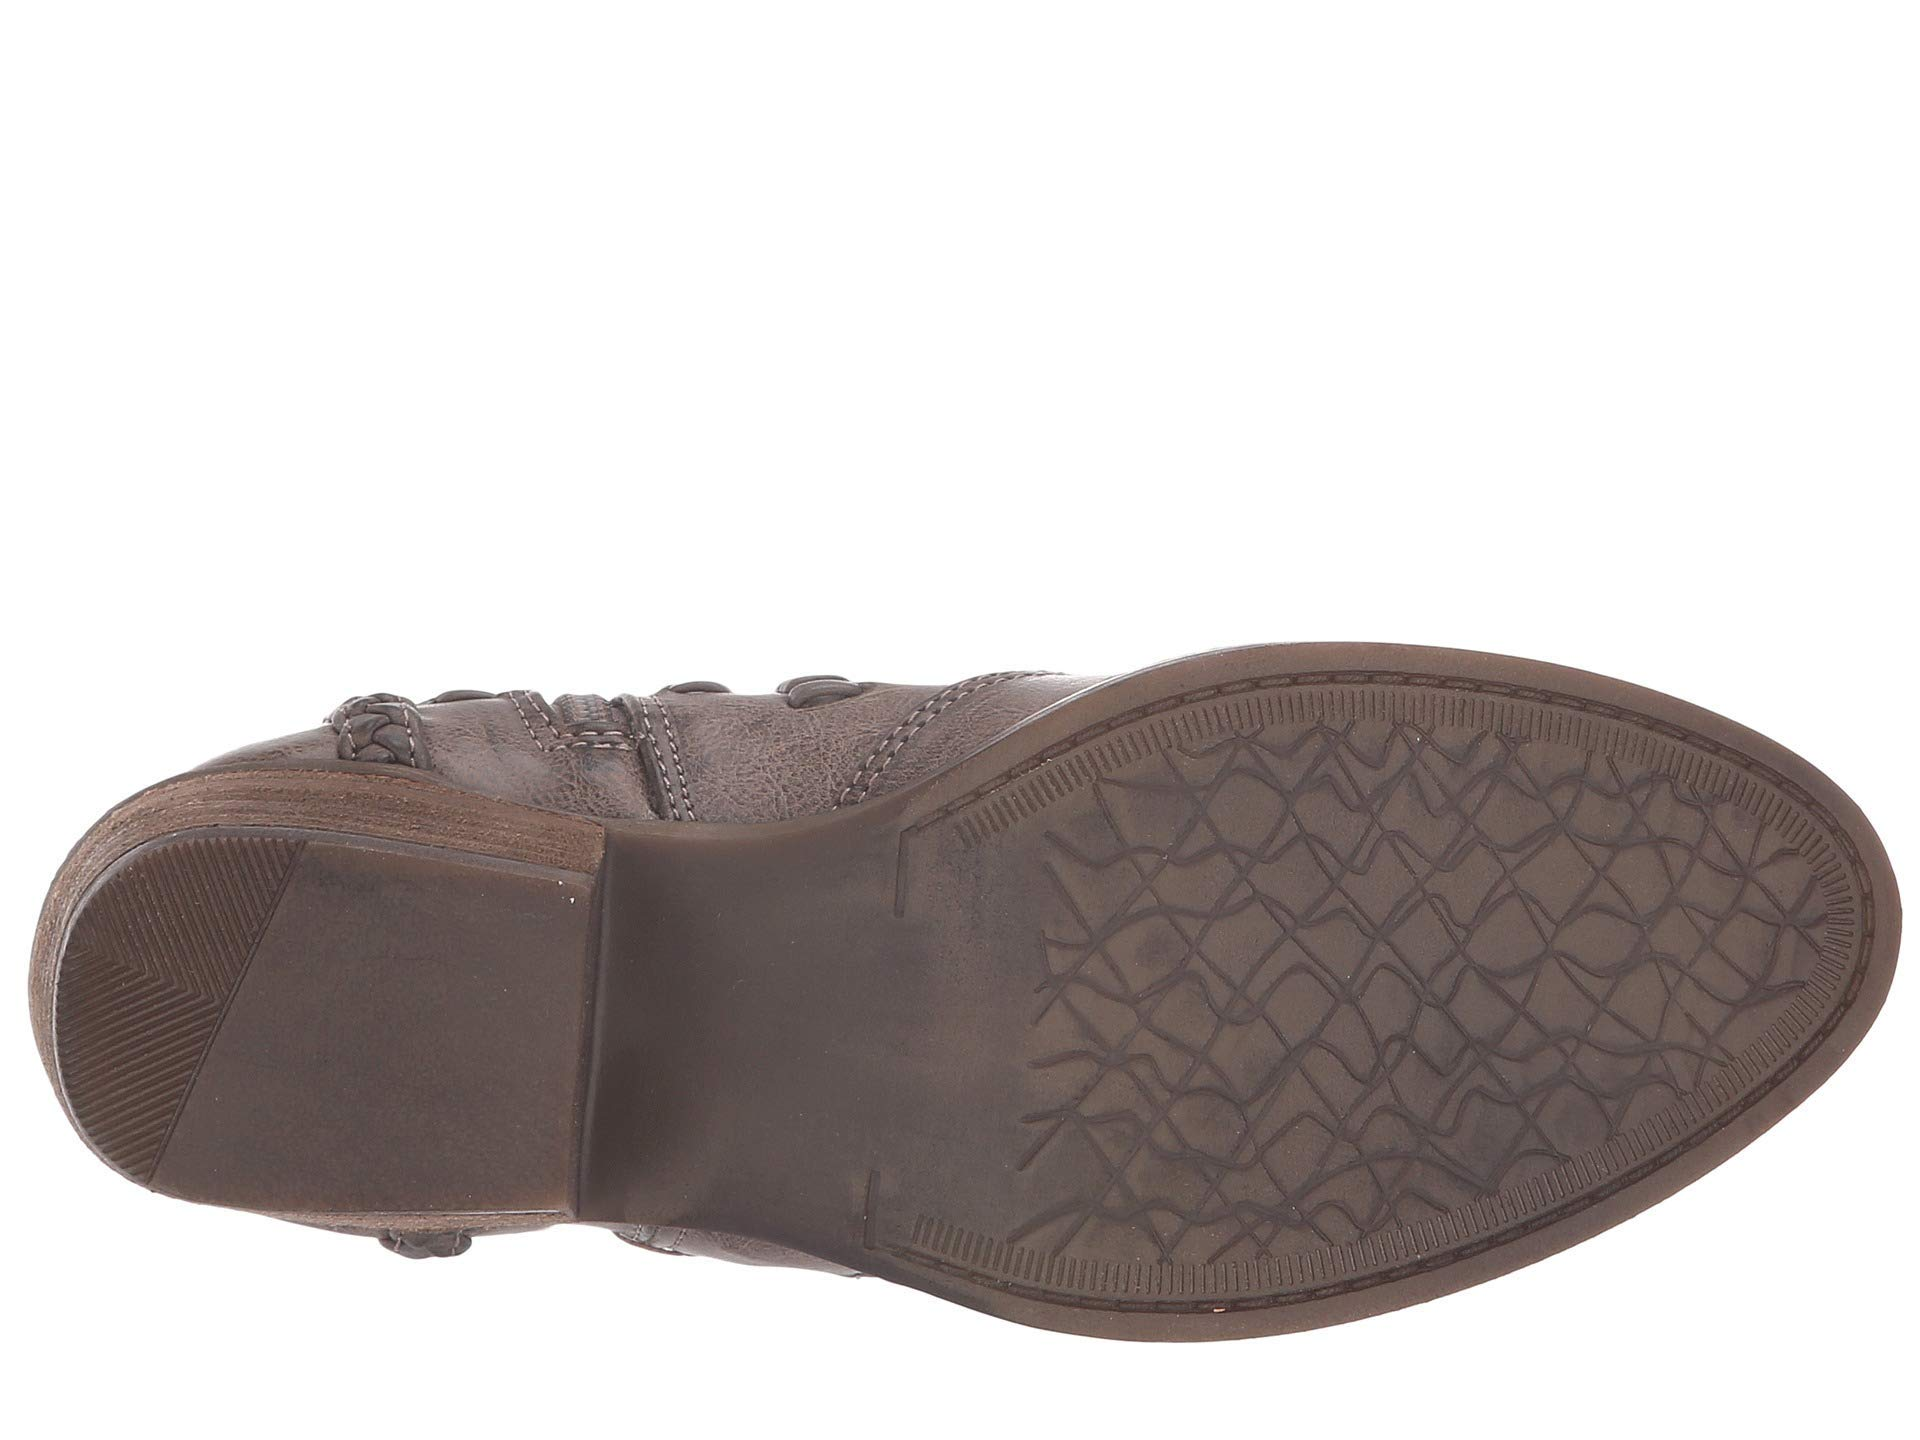chevron: (76, 870, 293, 1144)
line: (1045, 765, 1642, 1203)
quad: (1045, 765, 1642, 1203)
